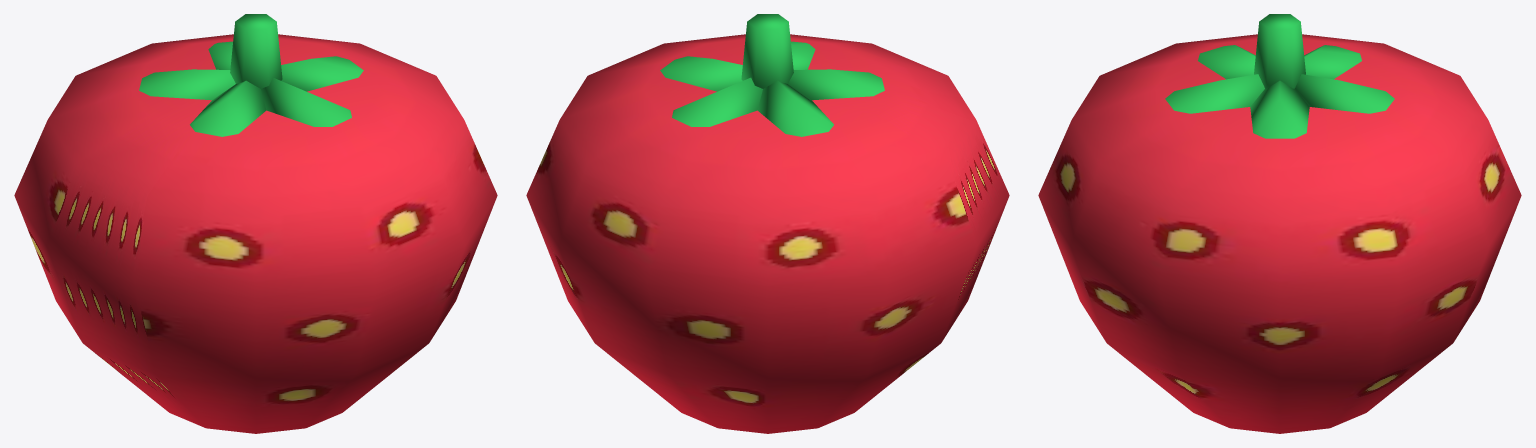
File: w1_03_strawberry.glb
3 renders of one model, left to right at view 1: azimuth 30°, elevation 25°; view 2: azimuth 150°, elevation 25°; view 3: azimuth 270°, elevation 25°, orthographic.
Visible parts, largest first — view 1: W1_03_Strawberry; view 2: W1_03_Strawberry; view 3: W1_03_Strawberry.
Boxes of the visible parts, <box> form: W1_03_Strawberry: <box>14,14,497,433</box>; W1_03_Strawberry: <box>526,14,1009,433</box>; W1_03_Strawberry: <box>1038,14,1521,433</box>.
Size of the model in its own units: 0.58 by 0.53 by 0.58.
1 material, 1 textured.
